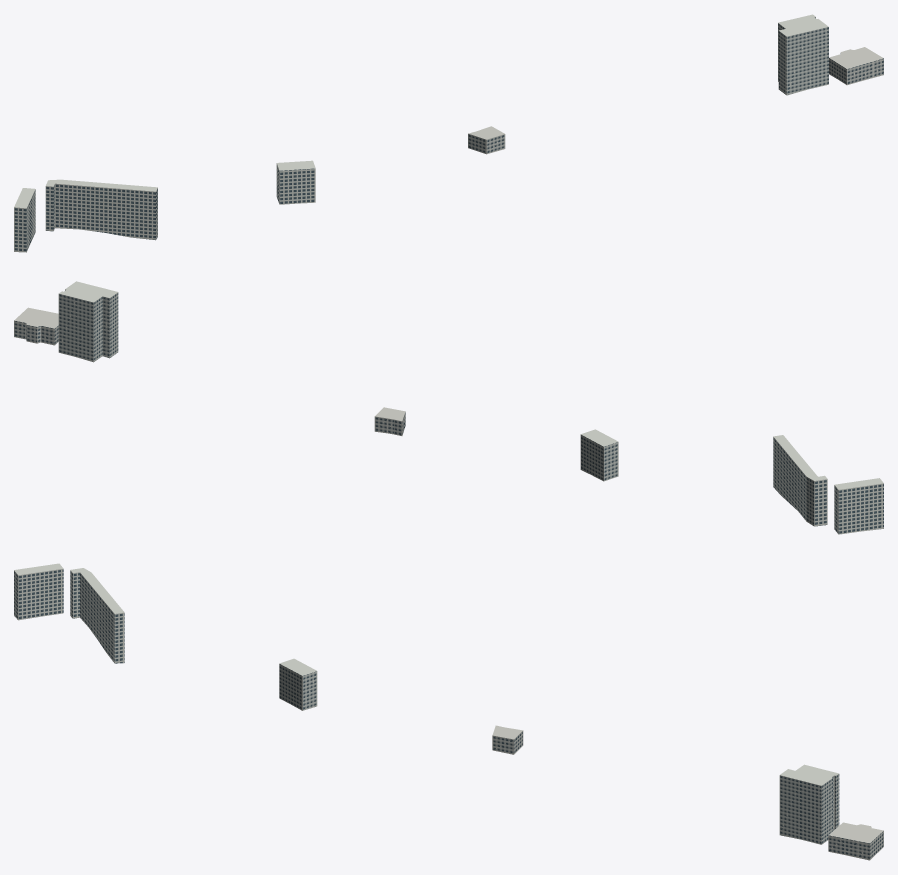
File: city_3_-6.glb
The picture shows the model from 3 angles, top to bottom: view 1: azimuth 30°, elevation 25°; view 2: azimuth 150°, elevation 25°; view 3: azimuth 330°, elevation 25°; orthographic projection. The views are drawn at different scales.
Size of the model in its own units: 788 by 59.84 by 63.04.
Materials: 2 (2 with a texture image).
